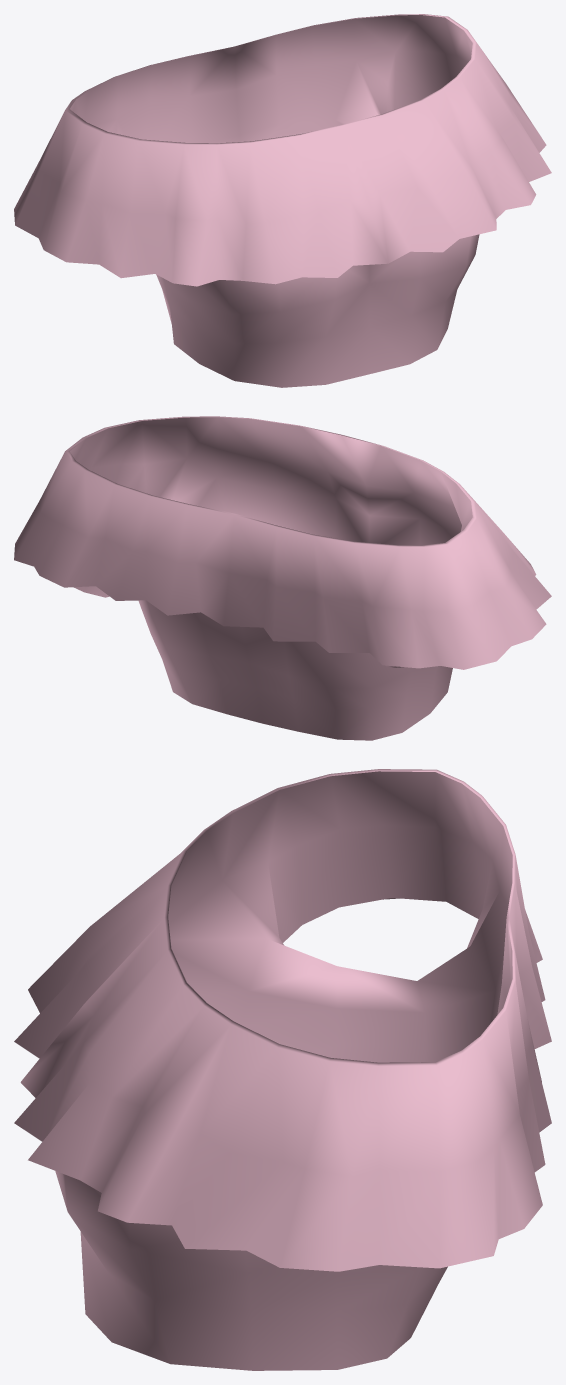
The model's file is blouse_15.glb.
3 renders of one model, top to bottom at view 1: azimuth 30°, elevation 25°; view 2: azimuth 150°, elevation 25°; view 3: azimuth 270°, elevation 25°, orthographic. The views are drawn at different scales.
Visible parts, largest first — view 1: blouse_15; view 2: blouse_15; view 3: blouse_15.
Boxes of the visible parts, x1=… form: blouse_15: x1=14, y1=14, x2=551, y2=387; blouse_15: x1=14, y1=416, x2=551, y2=740; blouse_15: x1=14, y1=769, x2=551, y2=1370.
Bounding box in the file's own units: 0.479 × 0.2163 × 0.2887.
